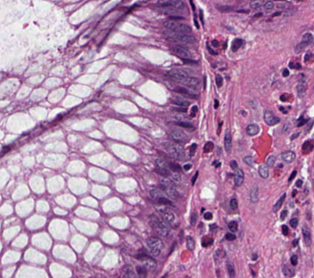nucleus: (148, 214, 169, 236), (164, 30, 195, 43), (163, 142, 185, 160), (156, 204, 175, 223), (163, 20, 190, 33), (147, 236, 163, 256), (171, 45, 192, 59), (155, 158, 171, 176), (167, 70, 188, 83), (158, 0, 183, 9), (169, 128, 186, 141), (273, 193, 285, 211), (264, 111, 279, 125), (174, 87, 194, 97), (163, 186, 178, 199), (149, 188, 164, 200), (183, 76, 199, 87), (172, 96, 188, 107), (159, 176, 173, 188), (234, 168, 243, 186), (224, 131, 231, 151), (250, 185, 258, 202), (231, 38, 242, 50), (246, 124, 258, 135), (258, 165, 268, 177), (170, 171, 180, 182), (168, 162, 180, 171), (186, 236, 194, 249), (175, 121, 192, 127), (204, 141, 213, 152), (266, 155, 275, 166), (250, 1, 263, 8), (263, 1, 273, 10), (243, 156, 253, 165), (228, 221, 237, 231), (202, 237, 212, 246), (172, 106, 186, 112), (189, 144, 196, 156), (217, 6, 233, 11), (215, 75, 222, 86), (230, 198, 237, 209), (191, 172, 197, 184), (190, 106, 197, 116), (190, 213, 196, 224), (230, 160, 237, 169), (225, 233, 234, 240), (183, 163, 191, 170), (204, 212, 212, 219), (211, 39, 218, 46), (214, 100, 218, 108), (273, 12, 279, 15)
